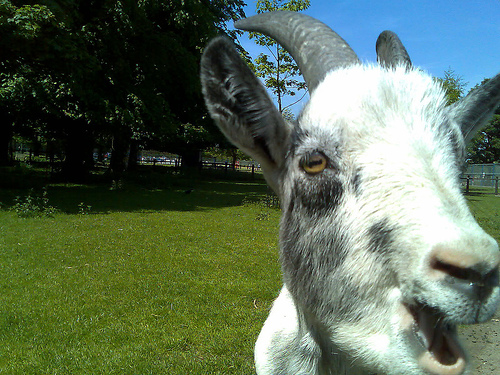goat: (200, 10, 500, 373)
